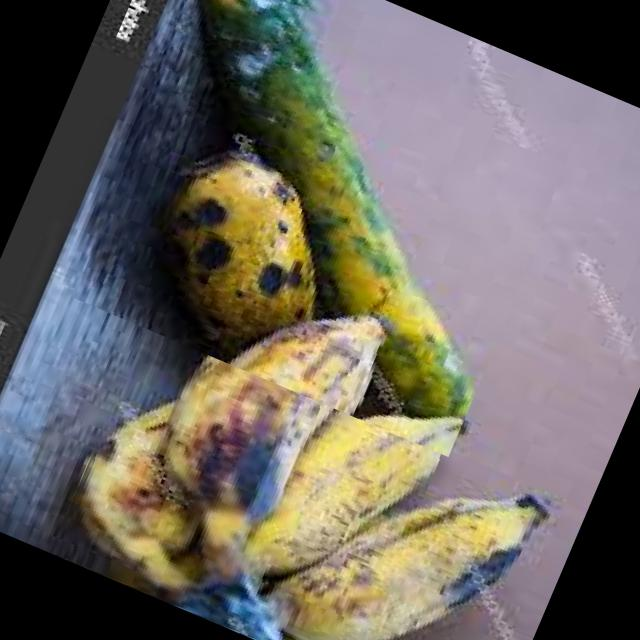Organic: (58, 0, 595, 456), (43, 226, 627, 640)
